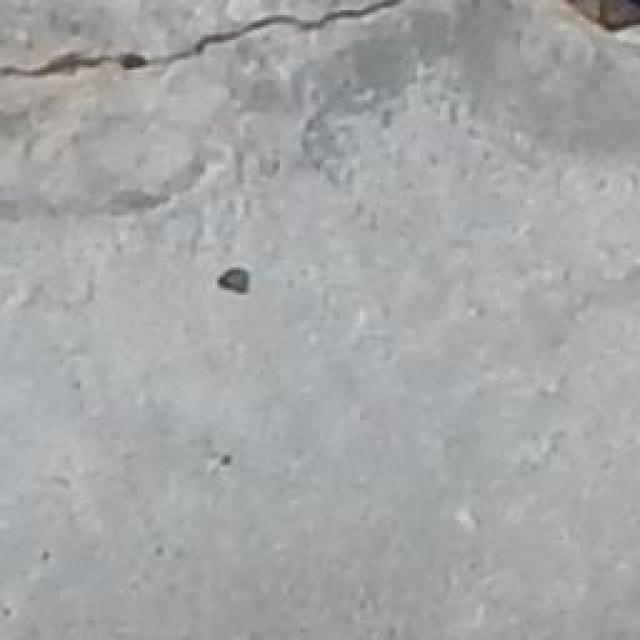concrete-crack: (3, 0, 425, 83), (567, 0, 640, 40)
